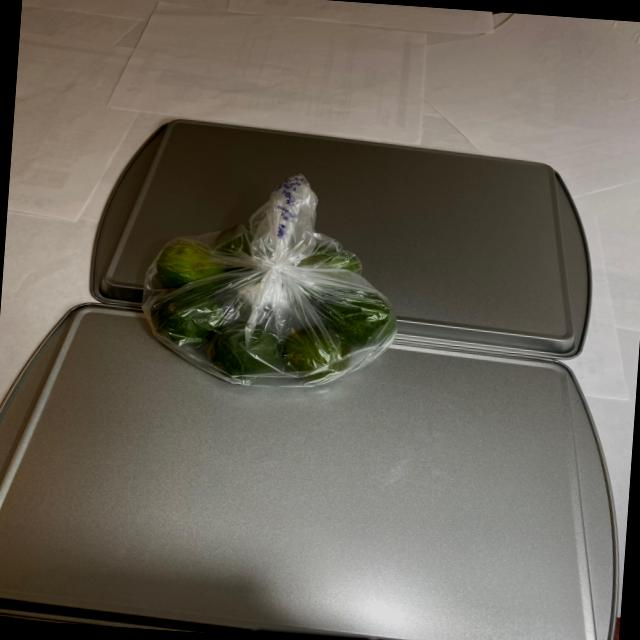lemon: (146, 219, 402, 394)
